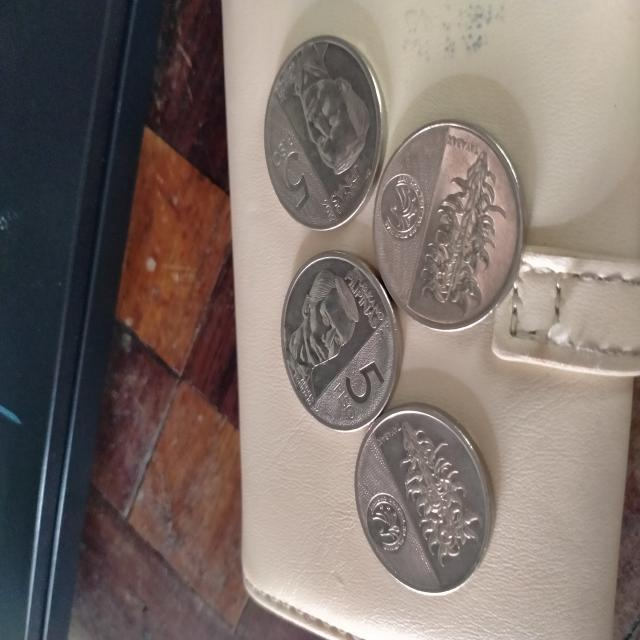5_New_Back: (414, 131, 510, 327), (396, 416, 482, 571)
5_New_Front: (322, 342, 389, 435), (266, 122, 318, 214)
